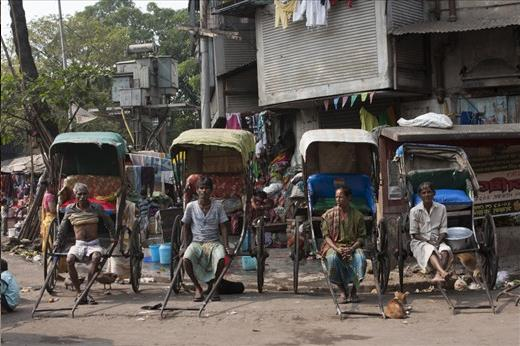Rickshaw: (155, 122, 268, 314), (34, 124, 144, 307), (285, 123, 385, 315), (399, 137, 500, 321)
